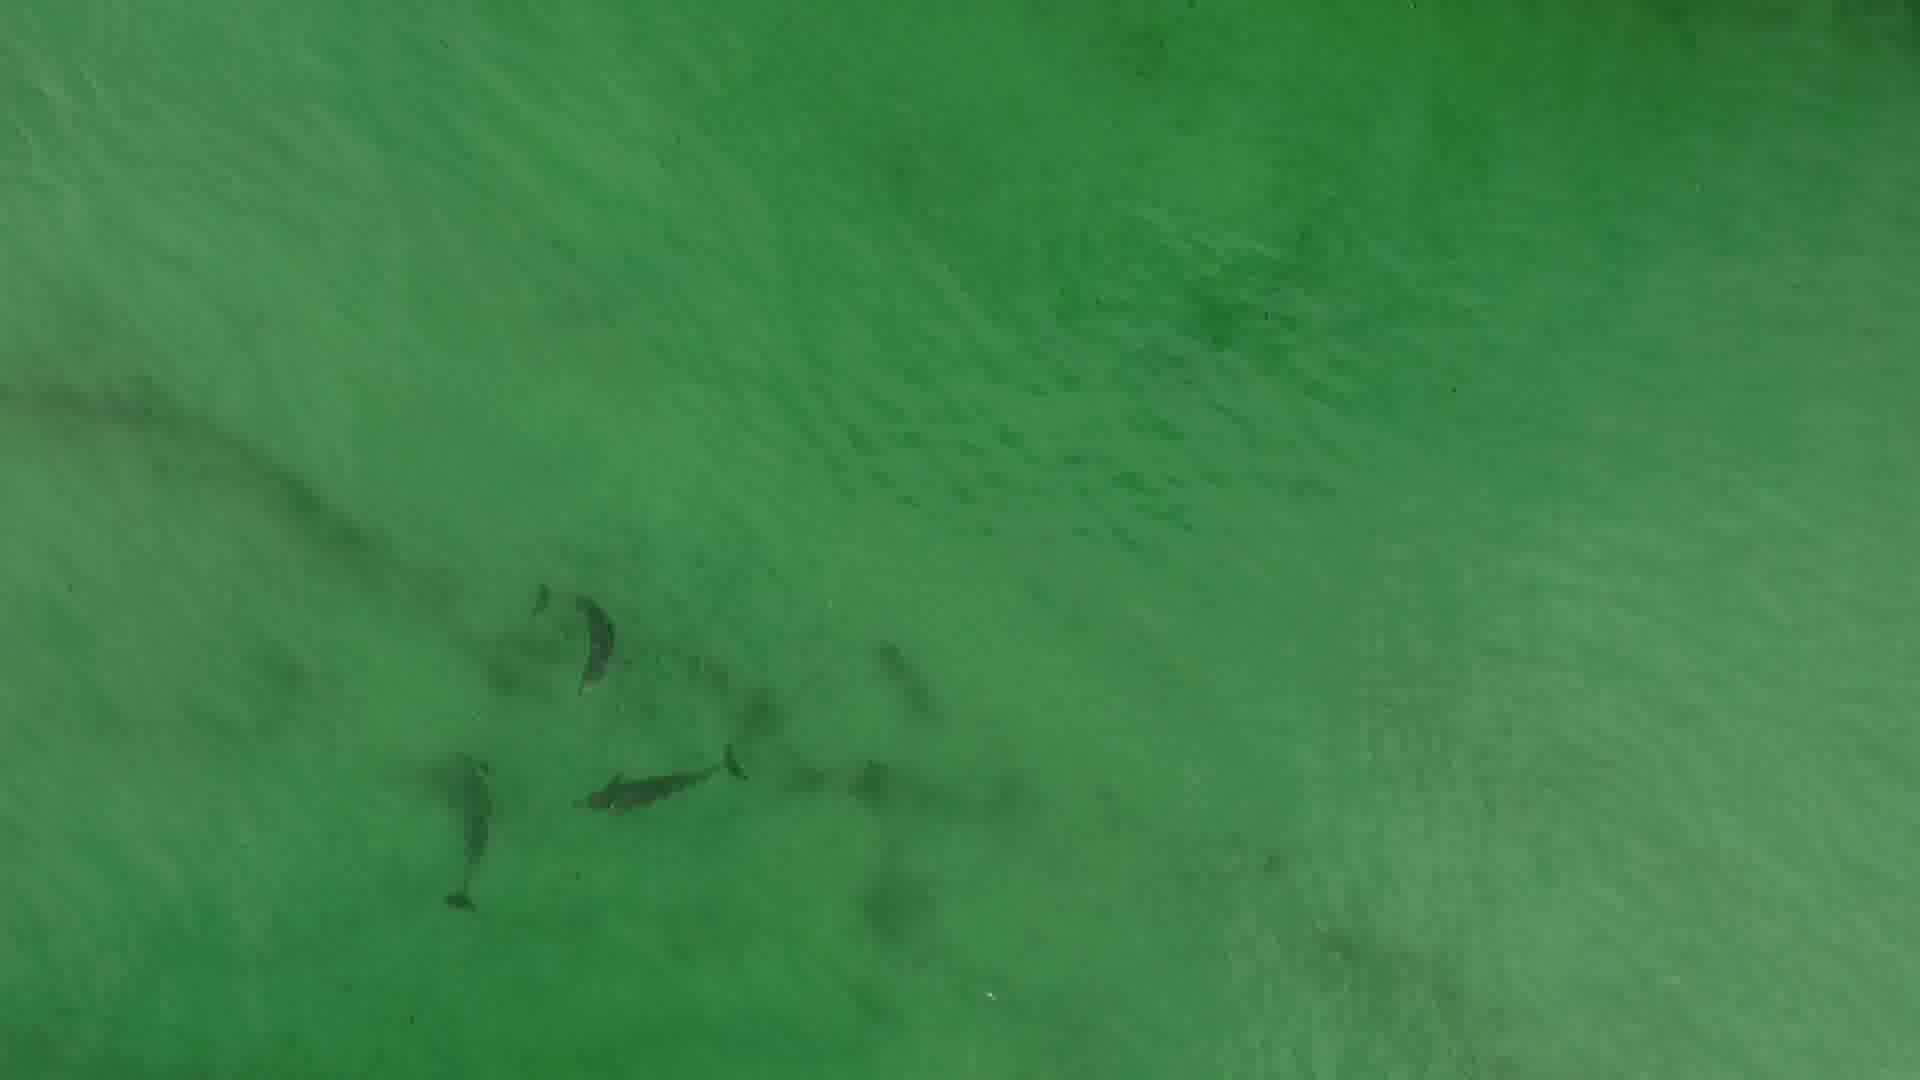dolphin: (381, 729, 537, 916), (562, 723, 790, 829), (497, 556, 630, 699)
